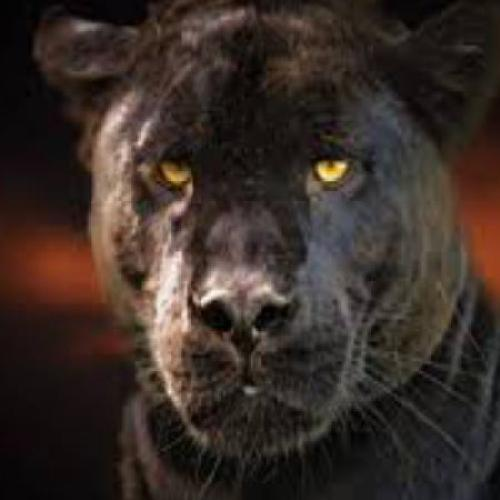panther-endangered: (32, 12, 484, 488)
